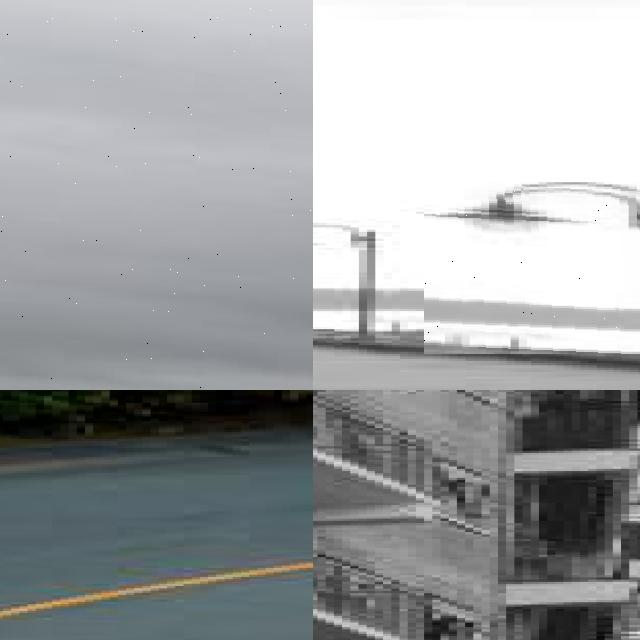street light: (0, 0, 313, 390), (424, 182, 640, 354), (313, 220, 391, 344)
